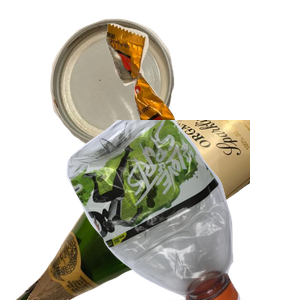glass: (13, 120, 253, 300)
metal: (47, 16, 214, 157)
plastic: (64, 120, 300, 300)
trash: (103, 21, 300, 174)
